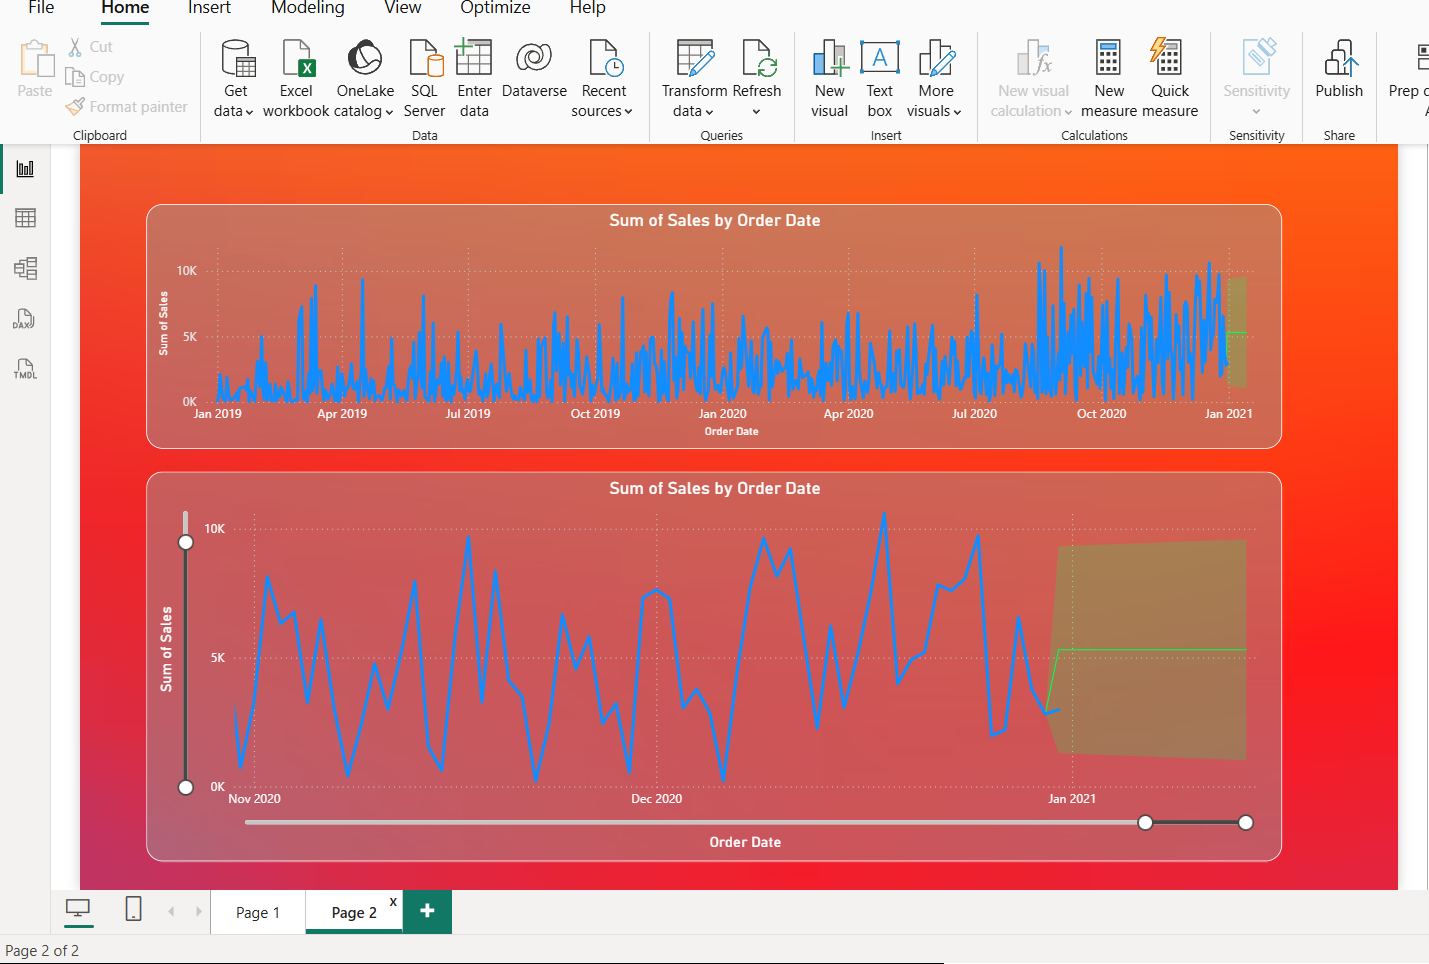

What the dashboard file says about the page in this screenshot:
{"tool":"powerbi","page":{"name":"Page 2","canvas":[1280,724],"ordinal":1},"visuals":[{"type":"lineChart","fields":{"Y":["Sum(SuperStore_Sales_Dataset (1).Sales)"],"Category":["SuperStore_Sales_Dataset (1).Order Date"]},"box":[64.3,58.2,1102.7,237.8],"z":0},{"type":"lineChart","fields":{"Y":["Sum(SuperStore_Sales_Dataset (1).Sales)"],"Category":["SuperStore_Sales_Dataset (1).Order Date"]},"box":[64.3,317.8,1102.7,378.5],"z":1000}]}

Visuals, with their boxes on the page's 1280x724 design canvas (x1, y1, x2, y2). These are canvas units, not pixel positions in the 1429x964 screenshot, which may show the page scaled, cropped or inside an application window:
lineChart - Sum(SuperStore_Sales_Dataset (1).Sales) x SuperStore_Sales_Dataset (1).Order Date: 64 58 1167 296
lineChart - Sum(SuperStore_Sales_Dataset (1).Sales) x SuperStore_Sales_Dataset (1).Order Date: 64 318 1167 696
